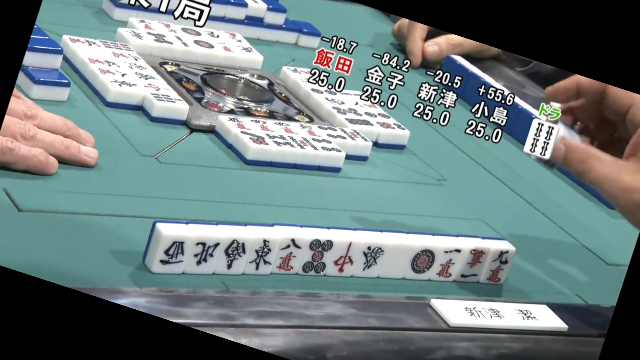Tehai: (146, 223, 518, 285)
